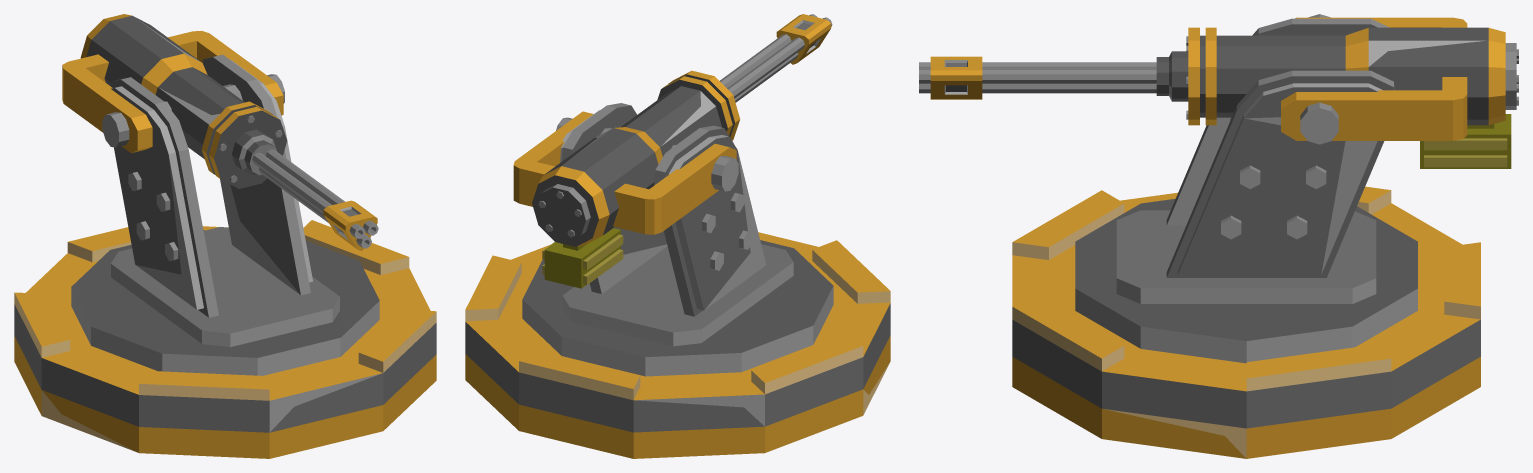
Rendered from tower_minigun_yellow_1.fbx.
3 views of the same model, side by side, from view 1: azimuth 30°, elevation 25°; view 2: azimuth 150°, elevation 25°; view 3: azimuth 270°, elevation 25° (orthographic). The views are drawn at different scales.
Visible parts, largest first — view 1: top_minigun_yellow_1, tower_minigun_yellow_1; view 2: top_minigun_yellow_1, tower_minigun_yellow_1; view 3: top_minigun_yellow_1, tower_minigun_yellow_1.
Boxes of the visible parts, x1,y1,x2,y2 form: top_minigun_yellow_1: (62,14,379,375); tower_minigun_yellow_1: (14,220,436,458); top_minigun_yellow_1: (513,14,833,376); tower_minigun_yellow_1: (465,232,890,458); top_minigun_yellow_1: (919,14,1518,363); tower_minigun_yellow_1: (1012,186,1480,458).
Bounding box in the file's own units: 145 × 104 × 177.
